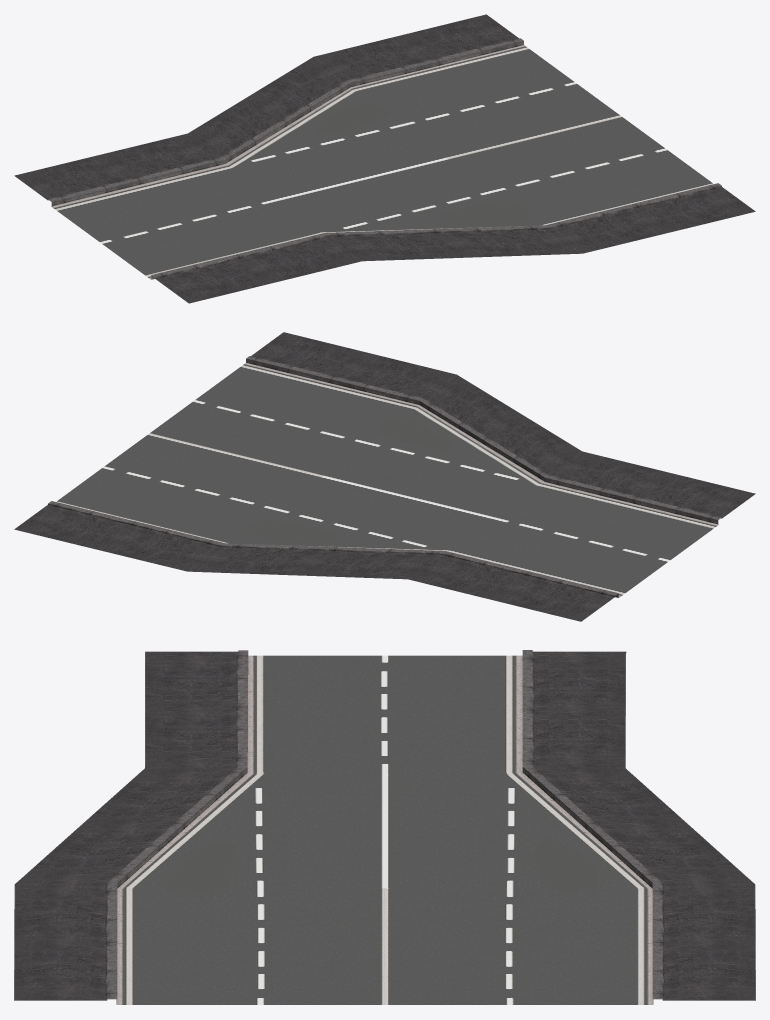
Rendered from 2 to 4 lines exit_mobile.FBX.
3 views of the same model, one above another, from view 1: azimuth 30°, elevation 25°; view 2: azimuth 150°, elevation 25°; view 3: azimuth 270°, elevation 25° (orthographic). The views are drawn at different scales.
Visible parts, largest first — view 1: Plane252; view 2: Plane252; view 3: Plane252.
Part boxes in pixels (x1,y1,x2,y2): Plane252: (14,14,755,303); Plane252: (14,332,755,621); Plane252: (14,650,755,1004).
Bounding box in the file's own units: 36.01 × 0.3184 × 32.31.
